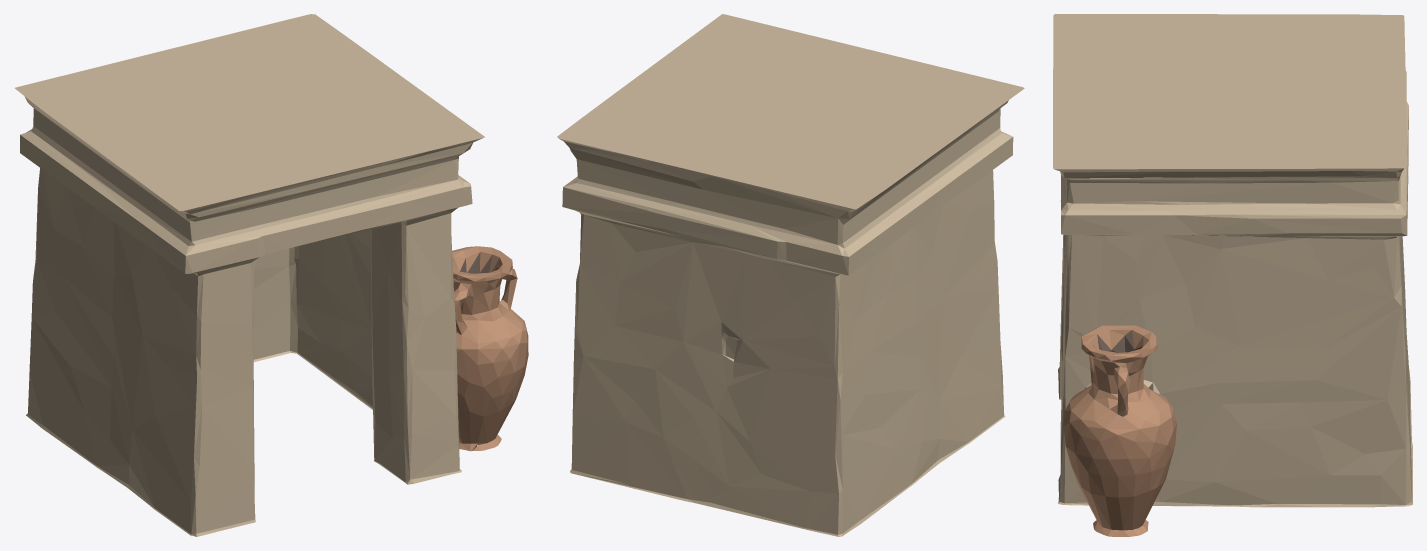
File: etape-1.glb
The picture shows the model from 3 angles, left to right: view 1: azimuth 30°, elevation 25°; view 2: azimuth 150°, elevation 25°; view 3: azimuth 270°, elevation 25°; orthographic projection. The views are drawn at different scales.
Visible parts, largest first — view 1: geometry_0; view 2: geometry_0; view 3: geometry_0.
Part boxes in pixels (bbox=[...]): geometry_0: bbox=[14, 14, 528, 536]; geometry_0: bbox=[557, 14, 1024, 536]; geometry_0: bbox=[1053, 14, 1412, 536].
Bounding box in the file's own units: 0.8668 × 0.7373 × 0.6961.
